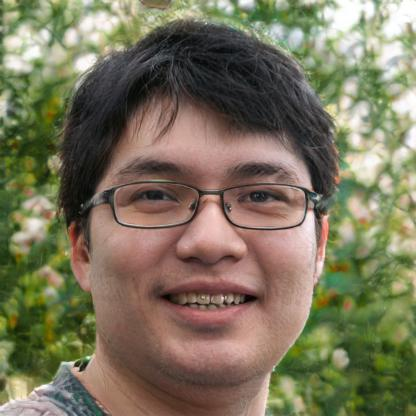glasses: (105, 176, 313, 233)
